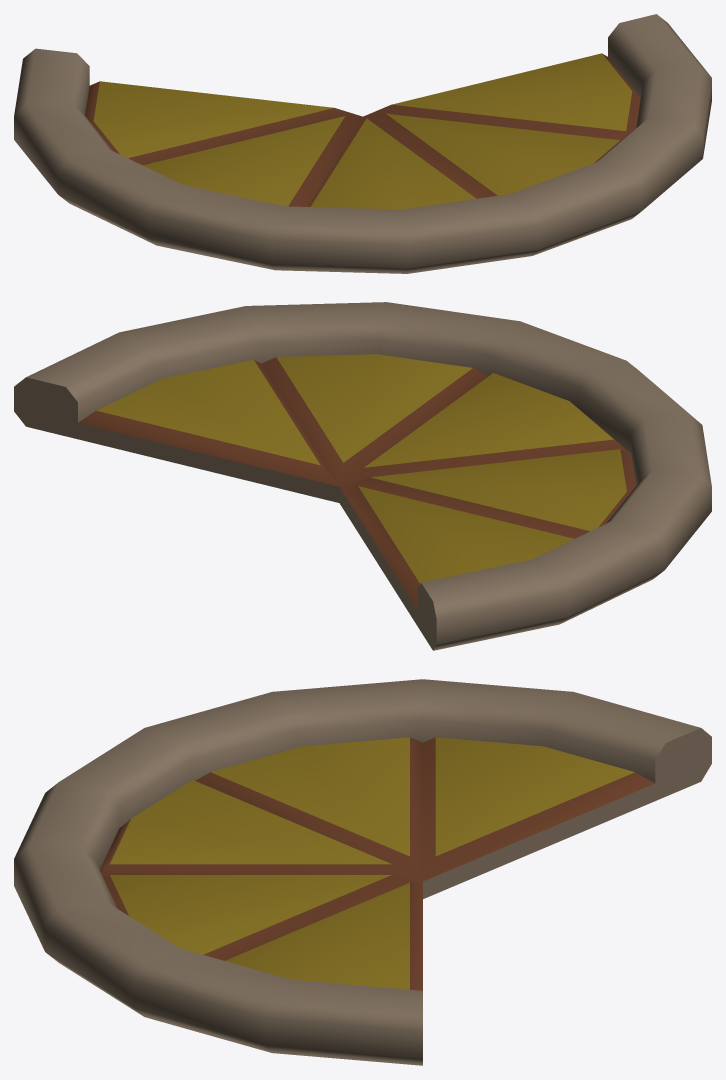
Rendered from PS_PizzaPie02.fbx.
The picture shows the model from 3 angles, top to bottom: view 1: azimuth 30°, elevation 25°; view 2: azimuth 150°, elevation 25°; view 3: azimuth 270°, elevation 25°; orthographic projection. The views are drawn at different scales.
Visible parts, largest first — view 1: PS_PizzaPie02; view 2: PS_PizzaPie02; view 3: PS_PizzaPie02.
Part boxes in pixels (bbox=[...]): PS_PizzaPie02: bbox=[14, 14, 711, 273]; PS_PizzaPie02: bbox=[14, 302, 711, 650]; PS_PizzaPie02: bbox=[14, 679, 711, 1065].
Bounding box in the file's own units: 0.6429 × 0.0467 × 0.5488.
